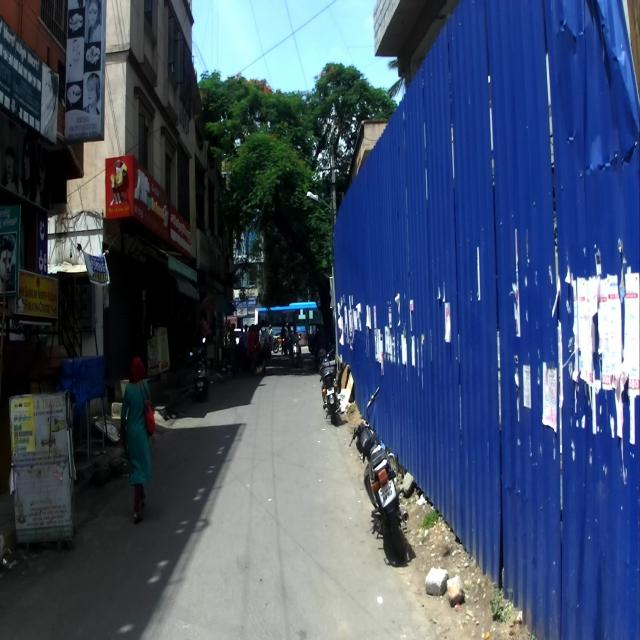motorcycle_bajaj: (348, 386, 408, 562)
